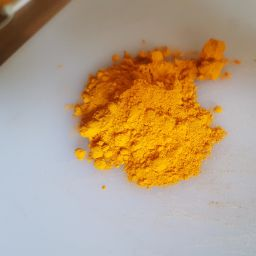Turmeric dried: (60, 33, 256, 209), (73, 30, 245, 195), (100, 74, 206, 169)
